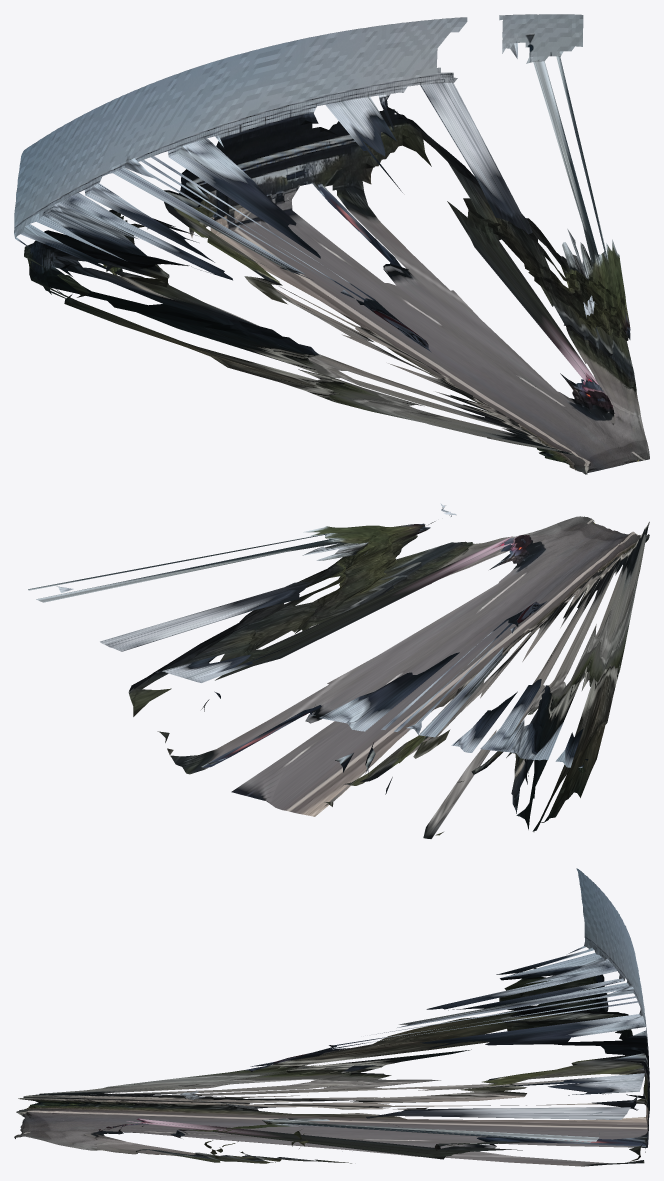
3 renders of one model, top to bottom at view 1: azimuth 30°, elevation 25°; view 2: azimuth 150°, elevation 25°; view 3: azimuth 270°, elevation 25°, orthographic. The views are drawn at different scales.
Parts seen in each view (by area): view 1: defaultobject; view 2: defaultobject; view 3: defaultobject.
Part boxes in pixels (x1=…): defaultobject: x1=14, y1=14, x2=649, y2=474; defaultobject: x1=28, y1=503, x2=649, y2=838; defaultobject: x1=14, y1=868, x2=649, y2=1166.
Size of the model in its own units: 40.95 by 12.76 by 44.75.
1 material, 1 textured.
